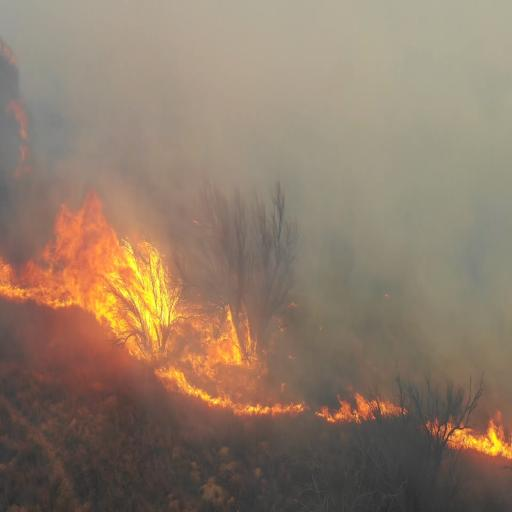fire: (55, 196, 164, 358), (160, 300, 254, 389), (443, 414, 512, 463), (325, 387, 400, 423), (0, 263, 57, 300)
